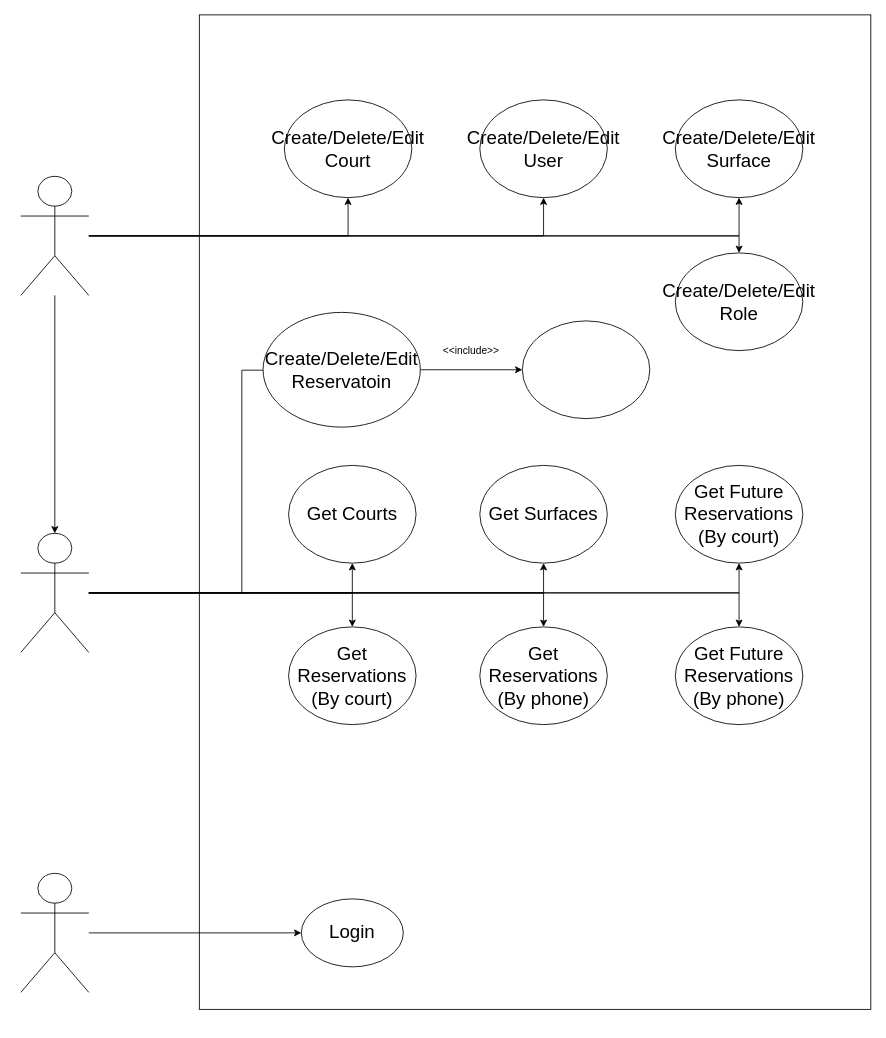
Image size: 886x1038. Some labels were removed from this diagram. Each missing label, with the box of its shape:
Admin: (20, 176, 89, 295)
Create Customer: (521, 320, 650, 419)
NotLoggedInUser: (20, 873, 89, 992)
User: (20, 533, 89, 652)
